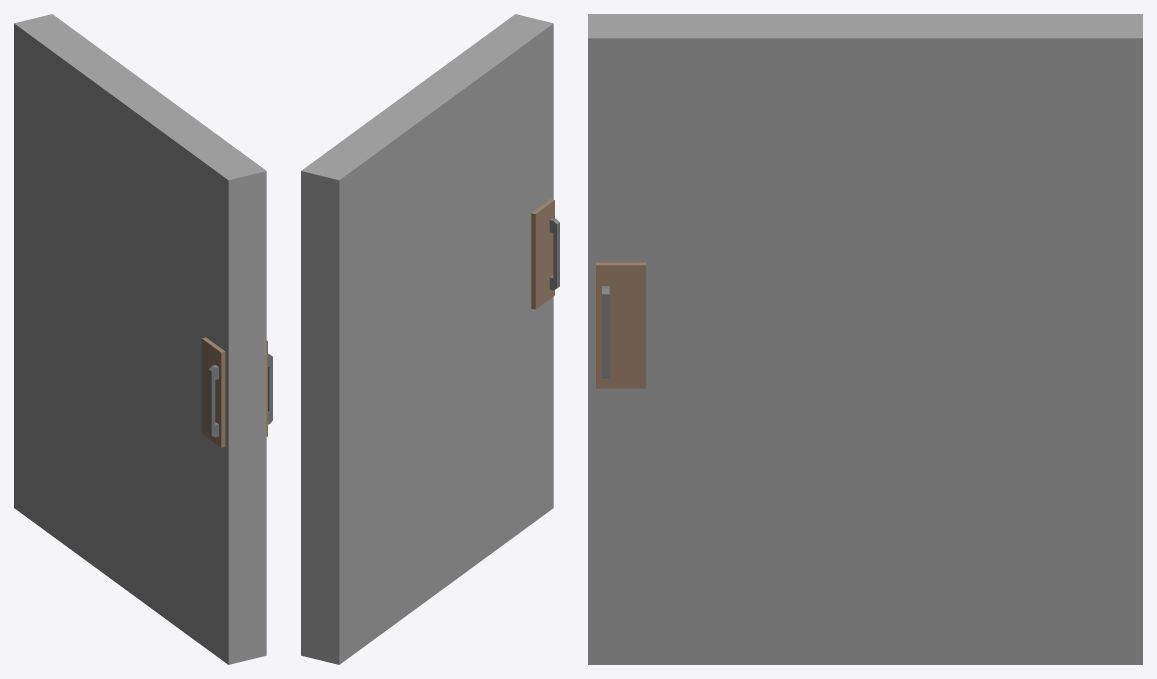
File: right_door.fbx
3 views of the same model, side by side, from view 1: azimuth 30°, elevation 25°; view 2: azimuth 150°, elevation 25°; view 3: azimuth 270°, elevation 25° (orthographic). The views are drawn at different scales.
Visible parts, largest first — view 1: Cube.030; view 2: Cube.030; view 3: Cube.030.
Boxes of the visible parts, <box> form: Cube.030: <box>14,14,272,664</box>; Cube.030: <box>301,14,559,664</box>; Cube.030: <box>588,14,1142,664</box>.
Bounding box in the file's own units: 15.5 × 117 × 94.02.
